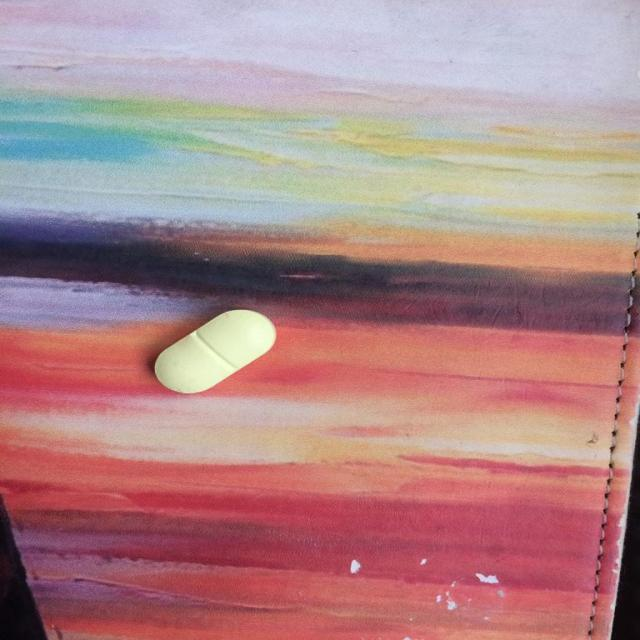pills: (132, 299, 289, 402)
